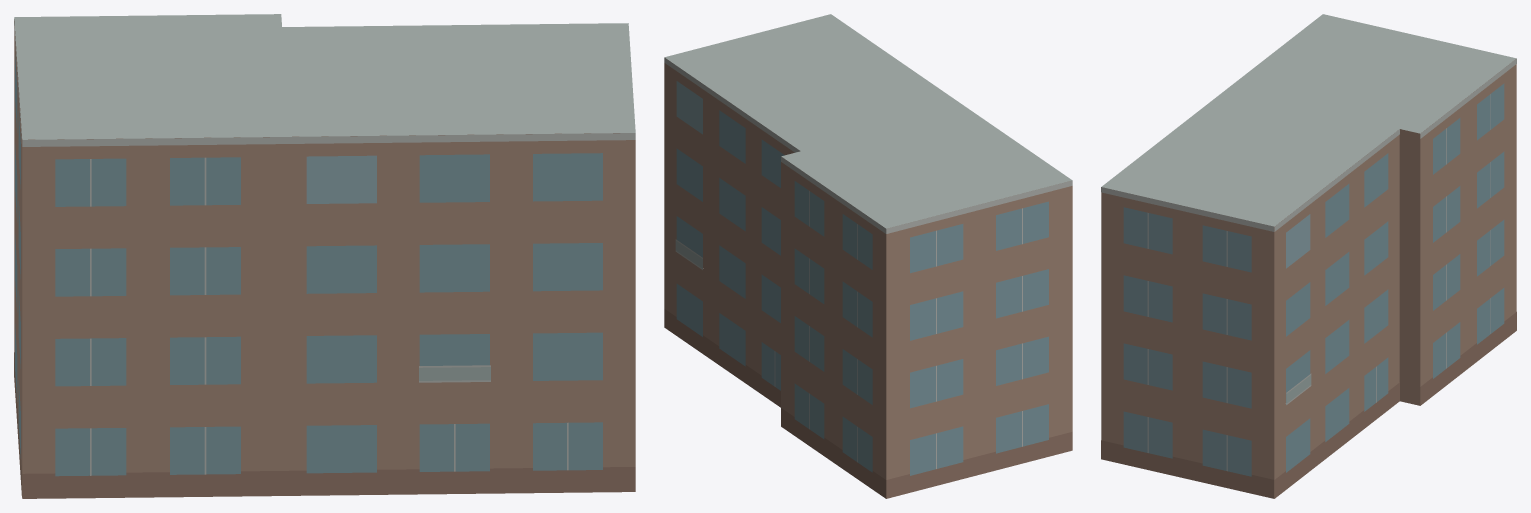
The model's file is residential-612d3723-ad6b-46d8-907e-eb3af68d755b.glb.
The picture shows the model from 3 angles, left to right: view 1: azimuth 30°, elevation 25°; view 2: azimuth 150°, elevation 25°; view 3: azimuth 270°, elevation 25°; orthographic projection. The views are drawn at different scales.
Parts seen in each view (by area): view 1: residential-612d3723-ad6b-46d8-907e-eb3af68d755b.tmp; view 2: residential-612d3723-ad6b-46d8-907e-eb3af68d755b.tmp; view 3: residential-612d3723-ad6b-46d8-907e-eb3af68d755b.tmp.
Boxes of the visible parts, left/top/right/bottom form: residential-612d3723-ad6b-46d8-907e-eb3af68d755b.tmp: left=14, top=14, right=635, bottom=498; residential-612d3723-ad6b-46d8-907e-eb3af68d755b.tmp: left=664, top=14, right=1072, bottom=498; residential-612d3723-ad6b-46d8-907e-eb3af68d755b.tmp: left=1101, top=14, right=1516, bottom=498.
Bounding box in the file's own units: 20.44 × 12.2 × 16.89.
